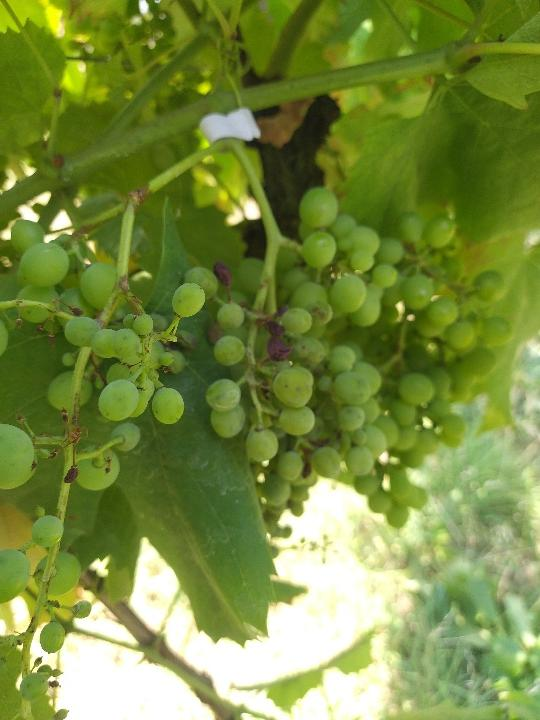grape: (183, 187, 397, 512)
